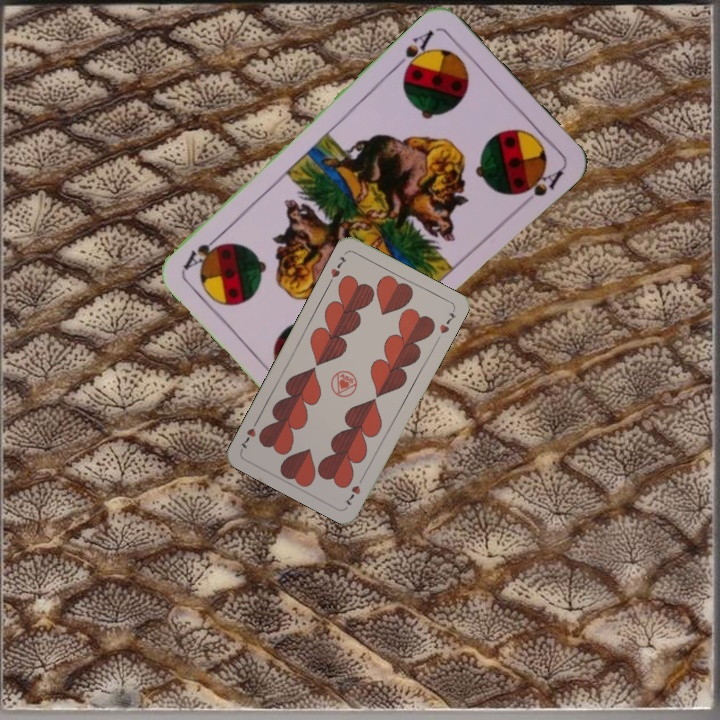H7: (340, 472, 367, 509), (325, 252, 349, 287)
SA: (391, 25, 437, 78)
